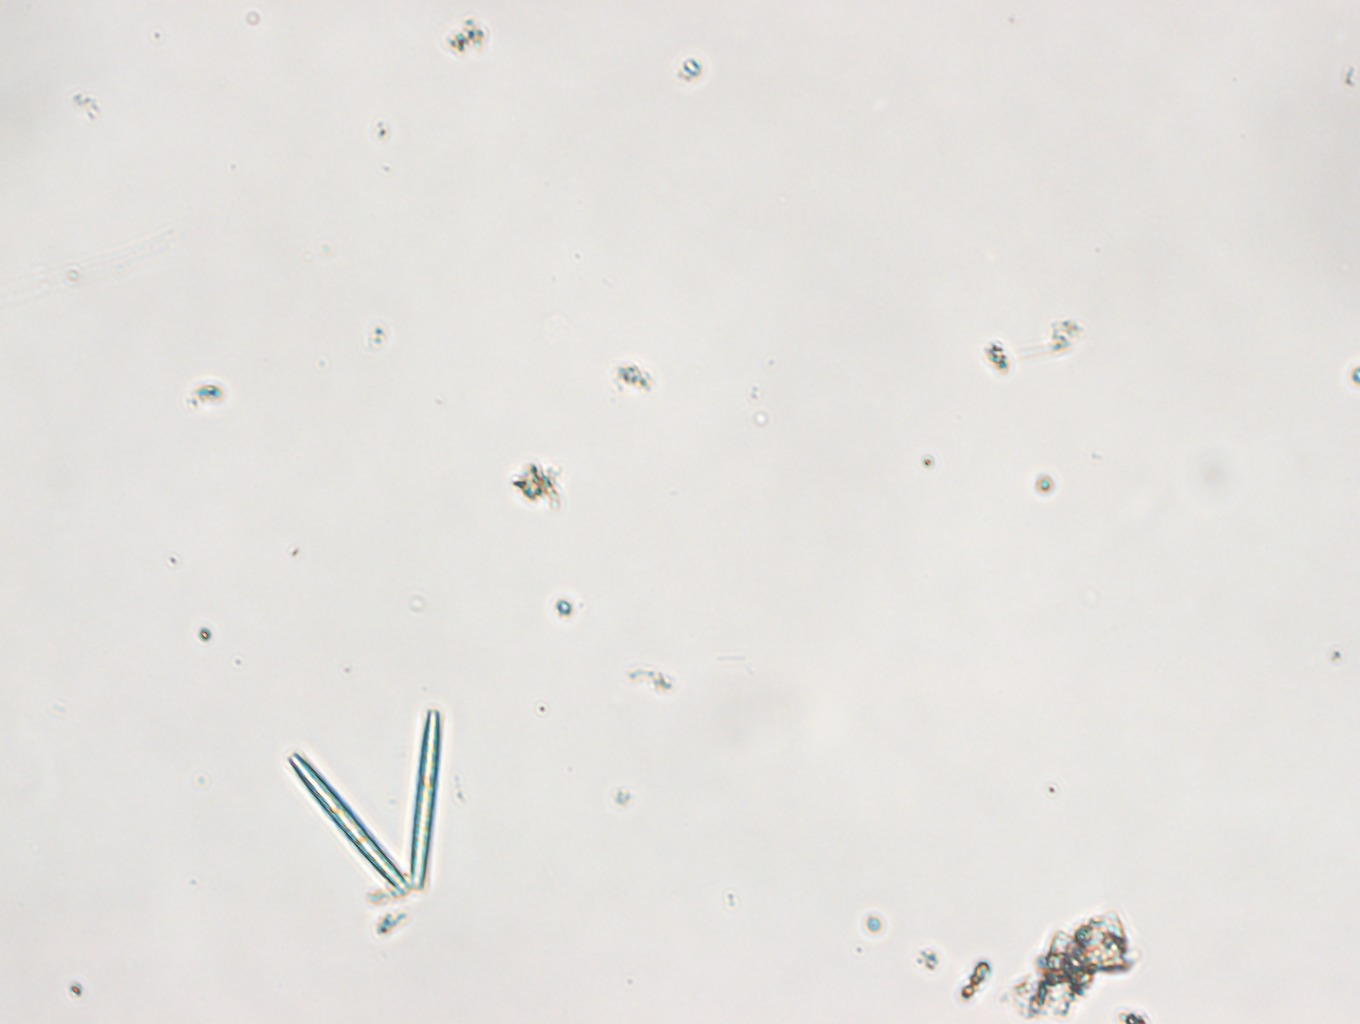thalassionema frauenfeldii: (284, 711, 453, 906)
